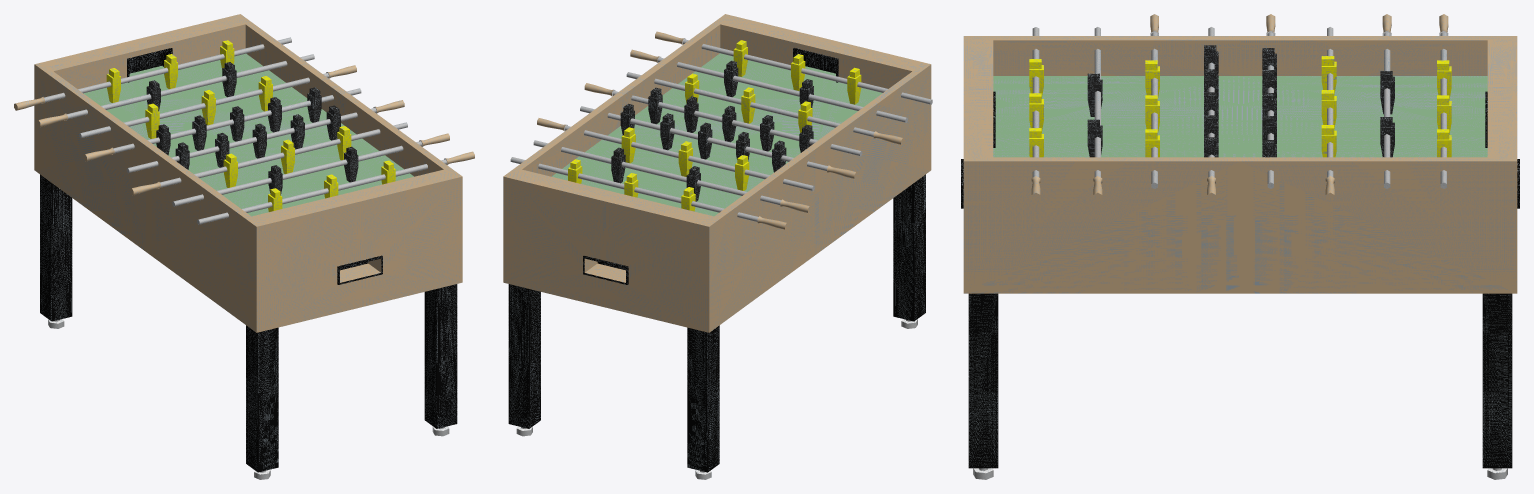
File: foosball.dae
3 renders of one model, left to right at view 1: azimuth 30°, elevation 25°; view 2: azimuth 150°, elevation 25°; view 3: azimuth 270°, elevation 25°, orthographic. The views are drawn at different scales.
Parts seen in each view (by area): view 1: Quarter (×11), Pole (×8); view 2: Quarter (×11), Pole (×8); view 3: Quarter (×10), Pole (×2).
Boxes of the visible parts, x1=… form: Quarter (×11): x1=34, y1=14, x2=462, y2=472; Pole (×8): x1=44, y1=37, x2=446, y2=224; Quarter (×11): x1=503, y1=14, x2=931, y2=472; Pole (×8): x1=510, y1=39, x2=932, y2=221; Quarter (×10): x1=963, y1=36, x2=1517, y2=468; Pole (×2): x1=1094, y1=27, x2=1390, y2=188.
Bounding box in the file's own units: 42.75 × 56.5 × 36.48.
